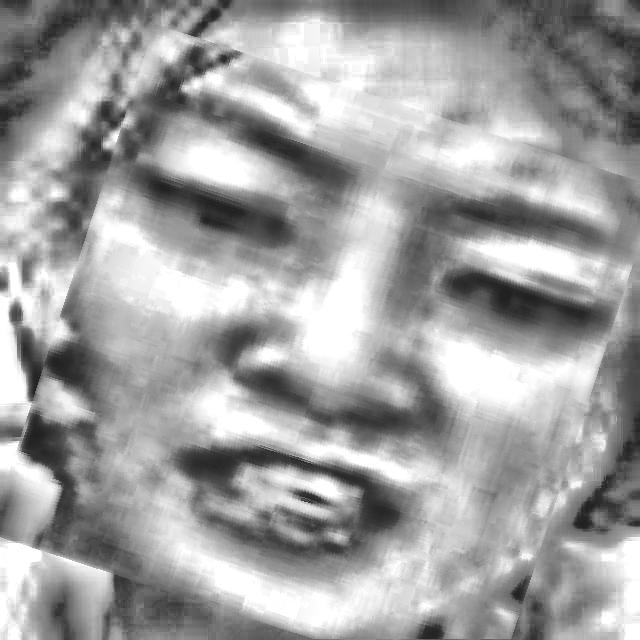angry: (23, 58, 621, 640)
